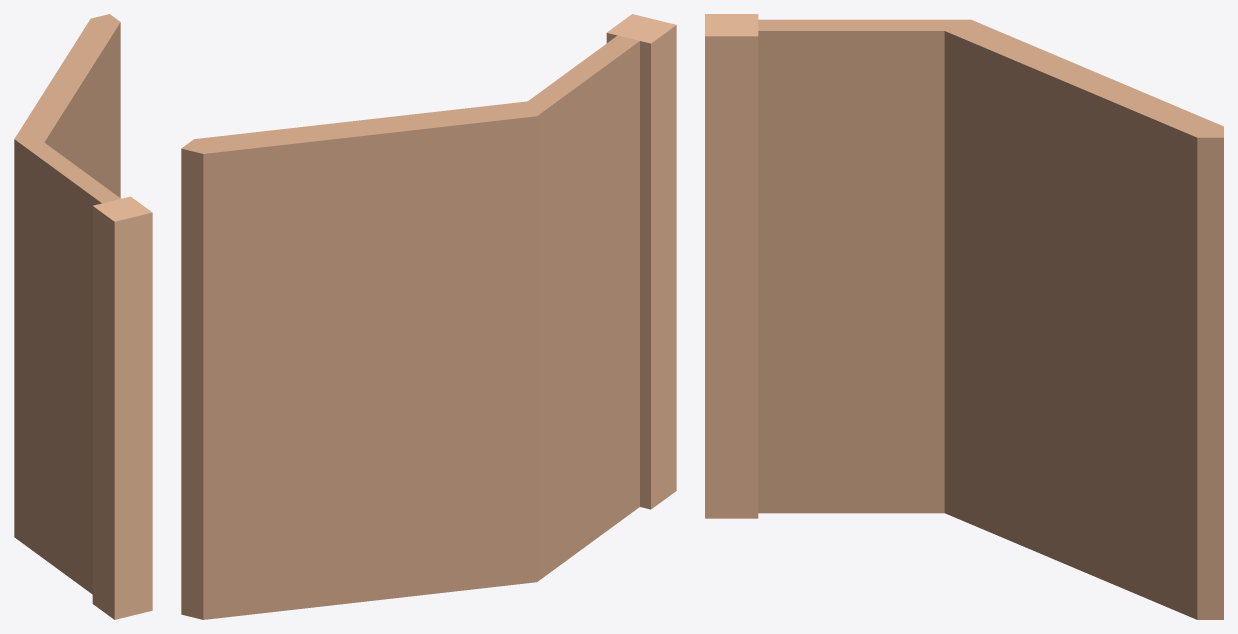
The model's file is wallWoodCornerDiagonalHalf.glb.
3 renders of one model, left to right at view 1: azimuth 30°, elevation 25°; view 2: azimuth 150°, elevation 25°; view 3: azimuth 270°, elevation 25°, orthographic. The views are drawn at different scales.
Parts seen in each view (by area): view 1: wallWoodCornerDiagonalHalf; view 2: wallWoodCornerDiagonalHalf; view 3: wallWoodCornerDiagonalHalf.
Boxes of the visible parts, x1,y1,x2,y2 form: wallWoodCornerDiagonalHalf: (14, 14, 152, 619); wallWoodCornerDiagonalHalf: (181, 14, 676, 619); wallWoodCornerDiagonalHalf: (705, 14, 1223, 619).
Bounding box in the file's own units: 0.55 × 1 × 0.975.
